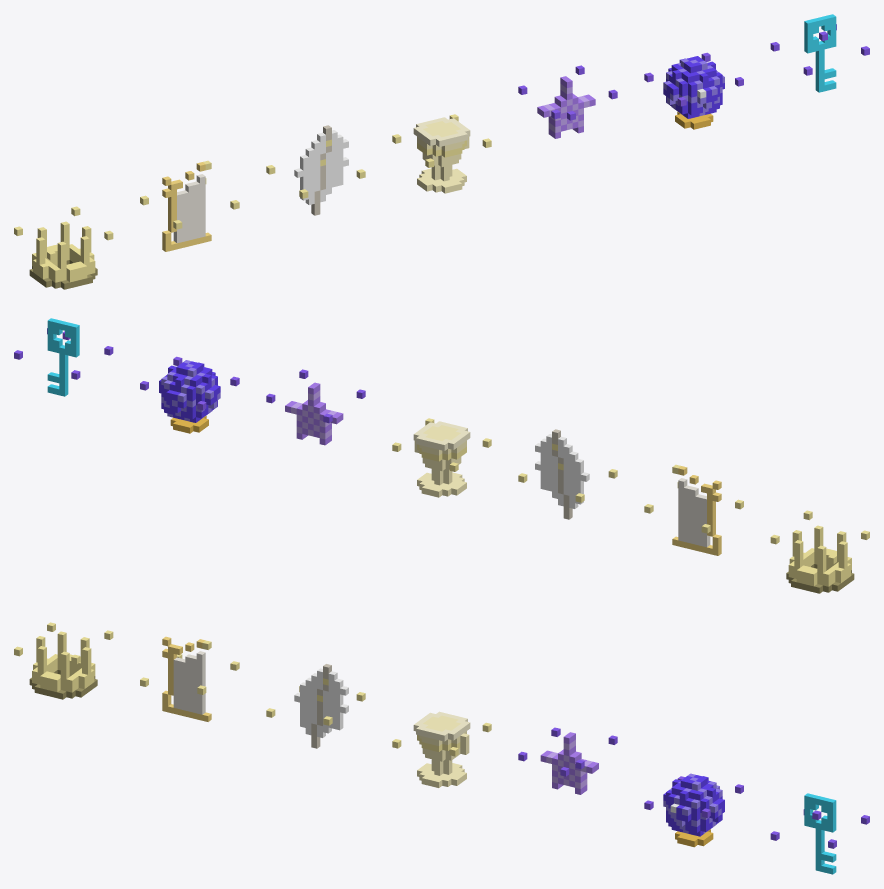
The model's file is Relics_11.fbx.
3 views of the same model, one above another, from view 1: azimuth 30°, elevation 25°; view 2: azimuth 150°, elevation 25°; view 3: azimuth 330°, elevation 25° (orthographic).
Visible parts, largest first — view 1: OeilDeLaGalaxie, CaliceDeLumiere, AureoleSolaire, LyreCeleste, PlumeDArchange, FragmentDuBigBang, CleDeLUnivers; view 2: OeilDeLaGalaxie, CaliceDeLumiere, AureoleSolaire, LyreCeleste, PlumeDArchange, FragmentDuBigBang, CleDeLUnivers; view 3: OeilDeLaGalaxie, CaliceDeLumiere, AureoleSolaire, LyreCeleste, PlumeDArchange, FragmentDuBigBang, CleDeLUnivers.
Boxes of the visible parts, x1,y1,x2,y2 form: OeilDeLaGalaxie: (644, 52, 743, 129); CaliceDeLumiere: (392, 114, 491, 193); AureoleSolaire: (14, 206, 113, 289); LyreCeleste: (140, 160, 239, 251); PlumeDArchange: (266, 125, 365, 215); FragmentDuBigBang: (518, 65, 617, 138); CleDeLUnivers: (770, 14, 869, 92); OeilDeLaGalaxie: (140, 356, 239, 433); CaliceDeLumiere: (392, 418, 491, 497); AureoleSolaire: (770, 510, 869, 593); LyreCeleste: (644, 464, 743, 555); PlumeDArchange: (518, 429, 617, 519); FragmentDuBigBang: (266, 369, 365, 445); CleDeLUnivers: (14, 318, 113, 396); OeilDeLaGalaxie: (644, 773, 743, 847); CaliceDeLumiere: (392, 711, 491, 787); AureoleSolaire: (14, 622, 113, 699); LyreCeleste: (140, 636, 239, 721); PlumeDArchange: (266, 664, 365, 748); FragmentDuBigBang: (518, 727, 617, 794); CleDeLUnivers: (770, 793, 869, 874).
Bounding box in the file's own units: 143 × 14 × 11.
